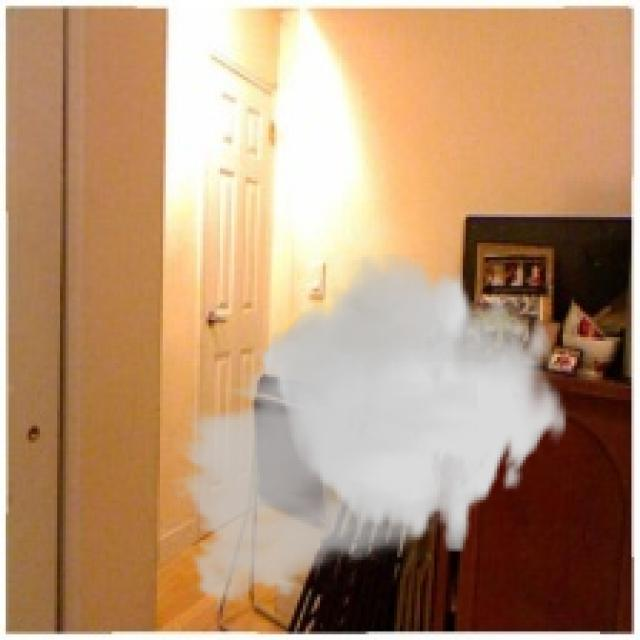smoke: (168, 254, 568, 620)
